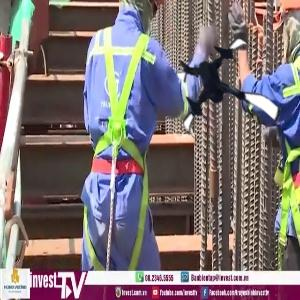drone: (168, 35, 286, 153)
